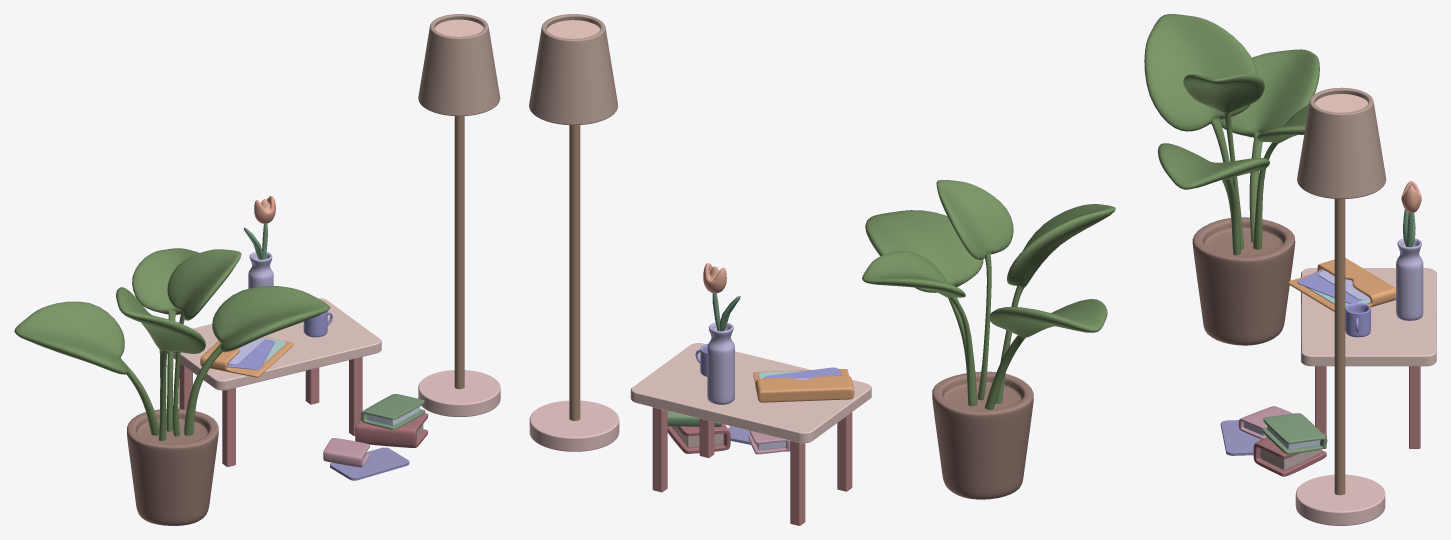
File: flatTable.glb
The picture shows the model from 3 angles, left to right: view 1: azimuth 30°, elevation 25°; view 2: azimuth 150°, elevation 25°; view 3: azimuth 270°, elevation 25°; orthographic projection. The views are drawn at different scales.
Visible parts, largest first — view 1: Cube 6, Cylinder 4, Rectangle, Cube 10, Cube 8, Cube 11, Cylinder 2, Cylinder 3, Cube 7, Cube 9, Cube (×2), Cube 4 (×2) (+5 smaller); view 2: Cube 6, Rectangle, Cylinder 4, Cube 8, Cube 11, Cylinder 2, Cube 10, Cylinder 3, Cube 9, Cube 7, Cube (×2), Cube 2 (×2) (+3 smaller); view 3: Cube 6, Cube 9, Rectangle, Cylinder 4, Cube 10, Cylinder 2, Cylinder 3, Cube 2 (×3), Cube 8, Cube 11, Cube (×2), Cube 4 (×3) (+6 smaller).
Boxes of the visible parts, left/top/right/bottom form: Cube 6: left=127, top=409, right=218, bottom=525; Cylinder 4: left=418, top=14, right=500, bottom=116; Rectangle: left=167, top=298, right=381, bottom=390; Cube 10: left=14, top=301, right=159, bottom=435; Cube 8: left=184, top=286, right=330, bottom=435; Cube 11: left=167, top=249, right=241, bottom=436; Cylinder 2: left=418, top=370, right=500, bottom=416; Cylinder 3: left=454, top=116, right=464, bottom=389; Cube 7: left=132, top=248, right=198, bottom=431; Cube 9: left=116, top=287, right=205, bottom=440; Cube (×2): left=200, top=336, right=428, bottom=447; Cube 4 (×2): left=323, top=357, right=369, bottom=467; Cube 6: left=932, top=371, right=1033, bottom=499; Rectangle: left=630, top=343, right=871, bottom=443; Cylinder 4: left=529, top=14, right=617, bottom=125; Cube 8: left=865, top=210, right=983, bottom=387; Cube 11: left=936, top=180, right=1013, bottom=400; Cylinder 2: left=529, top=400, right=619, bottom=451; Cube 10: left=985, top=299, right=1107, bottom=409; Cylinder 3: left=569, top=125, right=580, bottom=420; Cube 9: left=995, top=204, right=1115, bottom=403; Cube 7: left=862, top=251, right=977, bottom=406; Cube (×2): left=667, top=369, right=854, bottom=453; Cube 2 (×2): left=707, top=322, right=852, bottom=491; Cube 6: left=1192, top=217, right=1295, bottom=345; Cube 9: left=1144, top=14, right=1257, bottom=182; Rectangle: left=1301, top=268, right=1436, bottom=366; Cylinder 4: left=1297, top=87, right=1386, bottom=198; Cube 10: left=1220, top=49, right=1319, bottom=242; Cylinder 2: left=1295, top=474, right=1385, bottom=525; Cylinder 3: left=1334, top=199, right=1345, bottom=495; Cube 2 (×3): left=1260, top=238, right=1423, bottom=470; Cube 8: left=1157, top=143, right=1269, bottom=255; Cube 11: left=1183, top=74, right=1264, bottom=249; Cube (×2): left=1253, top=258, right=1395, bottom=476; Cube 4 (×3): left=1238, top=366, right=1420, bottom=448.
Bounding box in the file's own units: 8.6 × 6.19 × 4.01.
